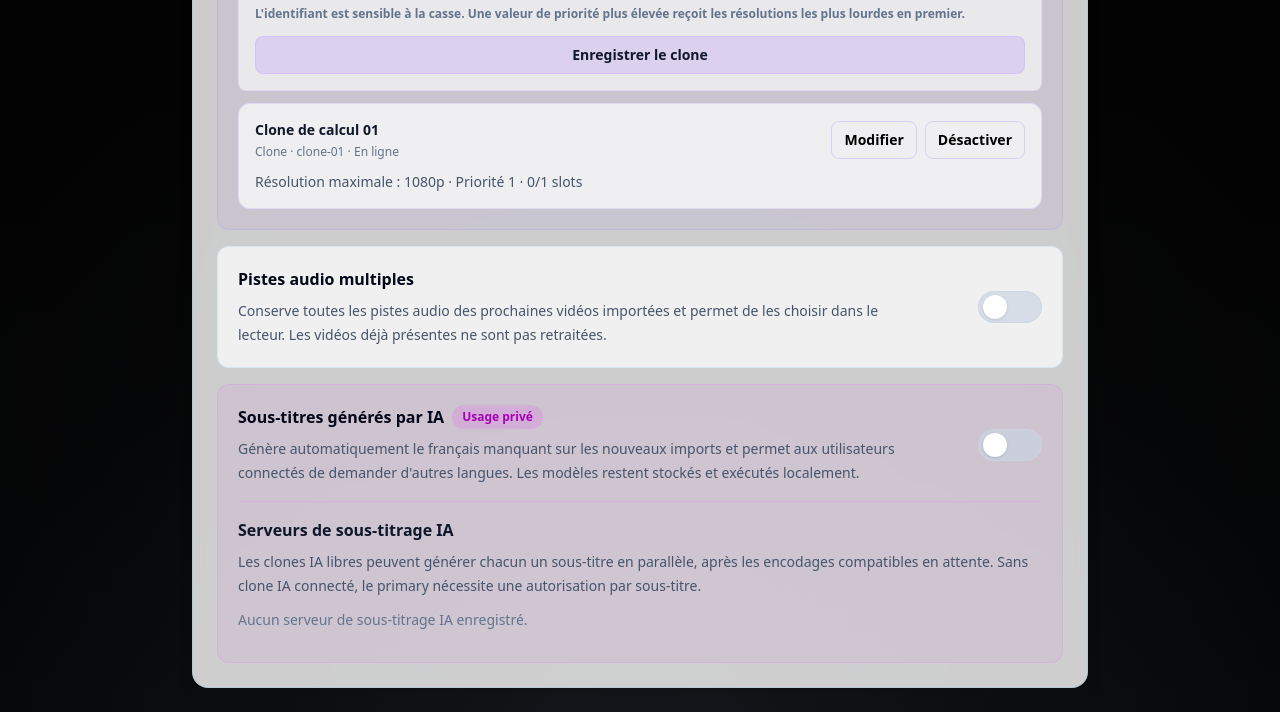
Scenario: AdminExperimentalFeatures - encodage multi-server › active le sous-titrage IA via sa configuration dédiée
(page scrolled)
Step 1. Click the 2nd button named "Activer les sous-titres générés par IA" → (1010, 445), box [978, 429, 1042, 461]
(page scrolled)
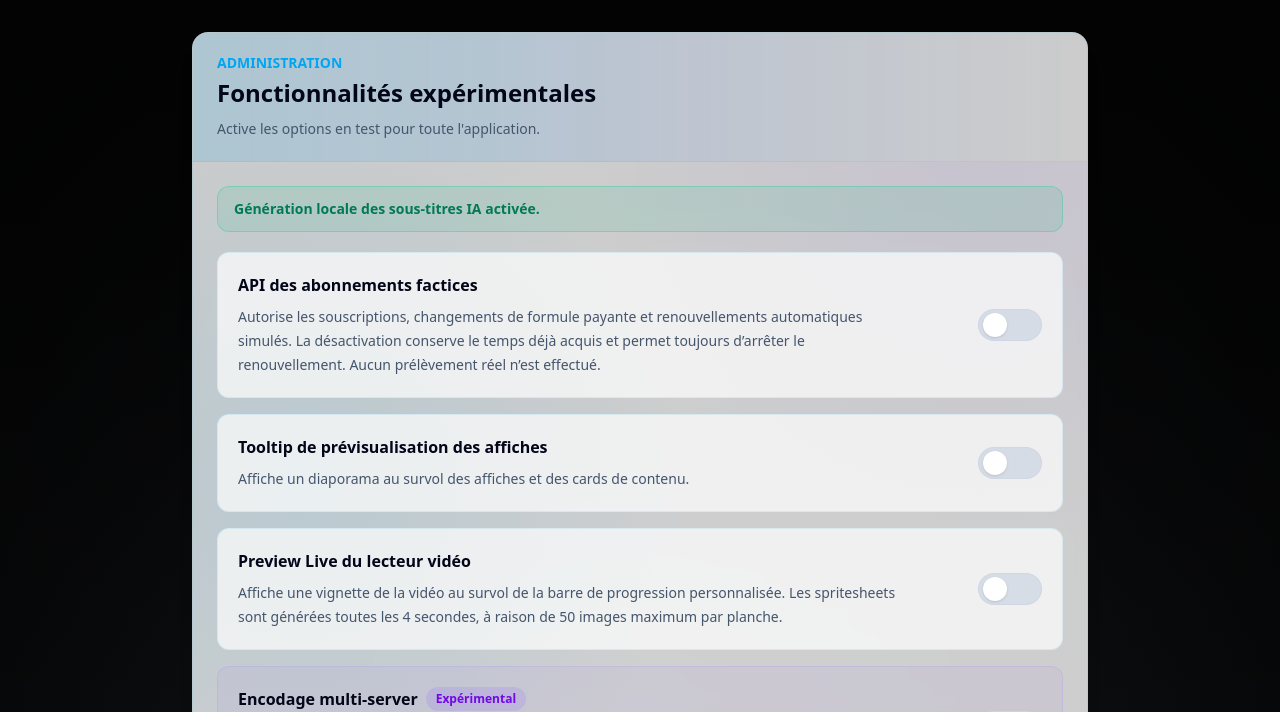
Expected: the text "Génération locale des sous-titres IA activée." is shown, [217, 186, 1063, 232]
